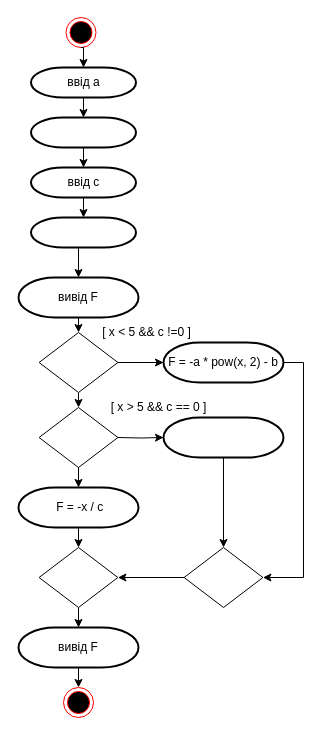
The diagram is 329 pixels wide and 735 high, and some of its shapes have lost their labels. The shapes that lost their labels are listed below. From the top down, each one's centre as x and y in pixels, then its label:
the point at 83,132: ввід b
the point at 83,232: ввід x
the point at 223,437: F = (x - a) / x
